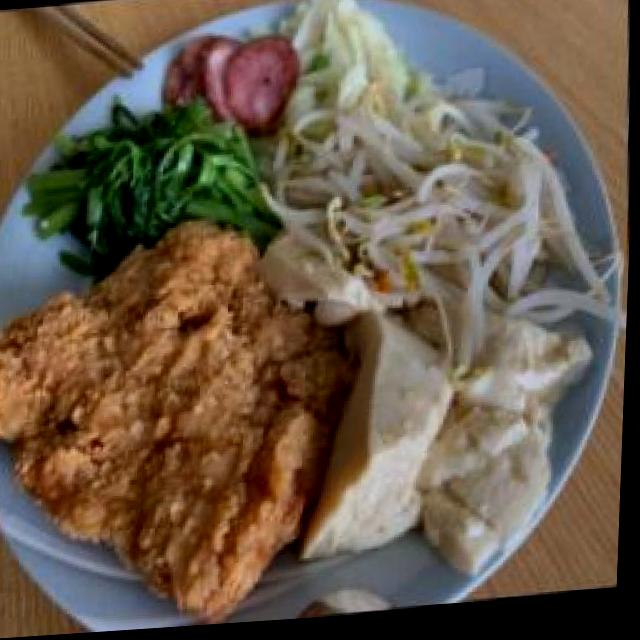chinese_cabbage: (294, 0, 431, 112)
chinese_sausage: (161, 24, 299, 131)
fried_chicken: (0, 214, 361, 638)
mung_bean_sprouts: (330, 88, 615, 340)
water_spinach: (33, 106, 272, 243)
